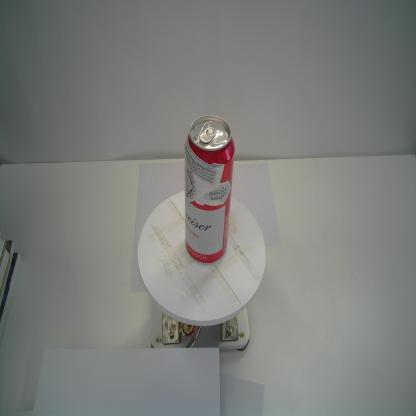Alcohol: (183, 113, 235, 264)
